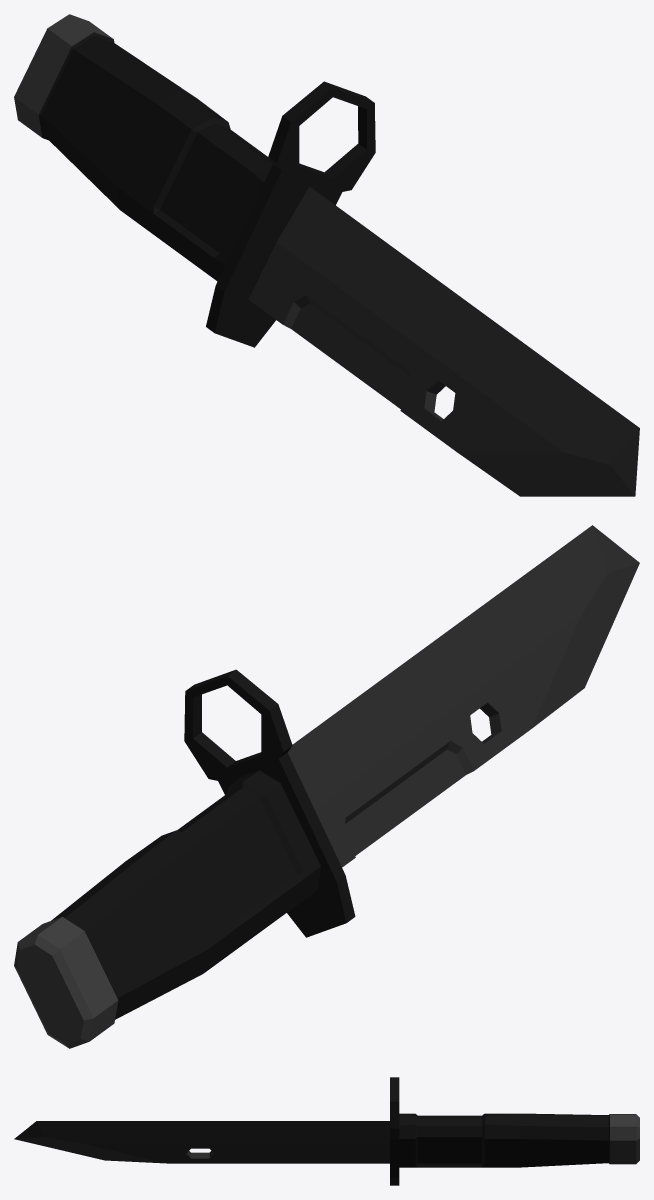
The model's file is ER FULCRUM BAYONET.glb.
3 views of the same model, one above another, from view 1: azimuth 30°, elevation 25°; view 2: azimuth 150°, elevation 25°; view 3: azimuth 270°, elevation 25° (orthographic). The views are drawn at different scales.
Visible parts, largest first — view 1: Object_7; view 2: Object_7; view 3: Object_7.
Part boxes in pixels (x1,y1,x2,y2): Object_7: (14,14,639,496); Object_7: (14,525,639,1048); Object_7: (14,1077,639,1185).
Bounding box in the file's own units: 0.4496 × 0.6423 × 2.83.
1 material, 1 textured.
